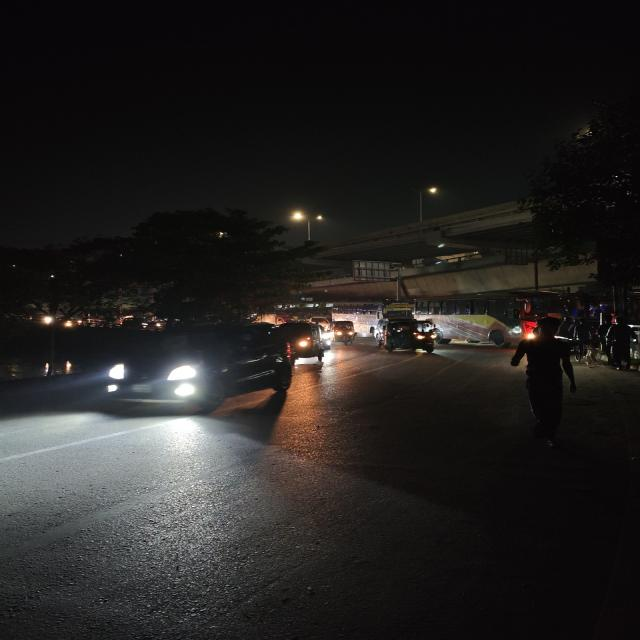bus: (414, 293, 547, 331)
car: (96, 320, 294, 418)
cng: (374, 316, 444, 356), (280, 321, 335, 368), (329, 318, 359, 344)
pedestrian: (506, 310, 583, 452), (601, 312, 638, 372), (504, 314, 545, 368)
rickshaw: (329, 318, 360, 344)
